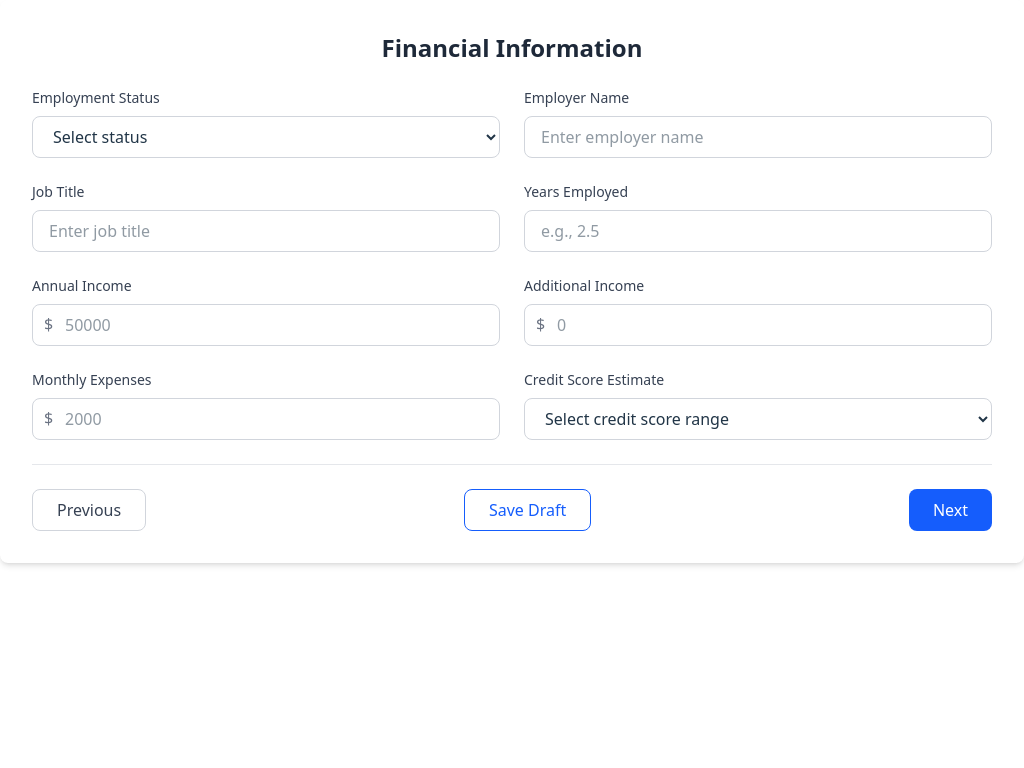
it: FinancialInformation Component › Validation - Field Formats › should show error when job title is too short
This screenshot has width=1024, height=768.
In the field labelled "Job Title": (266, 231) [32,210,500,252], type "A"
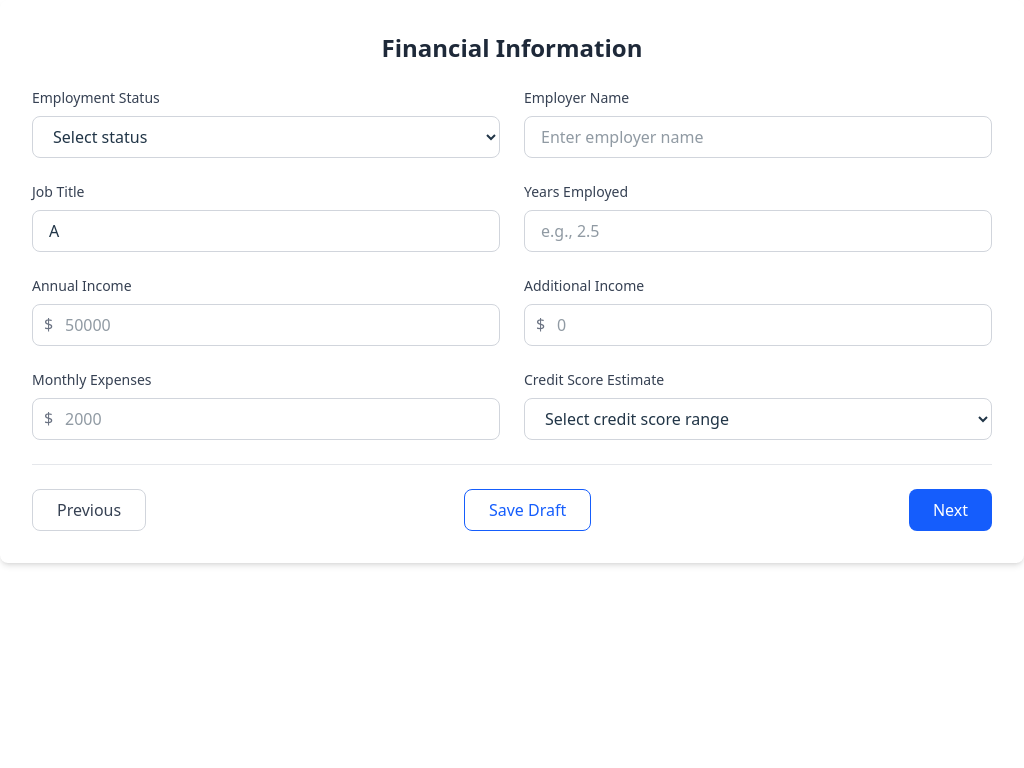
Leave the field labelled "Job Title", box [32,210,500,252]
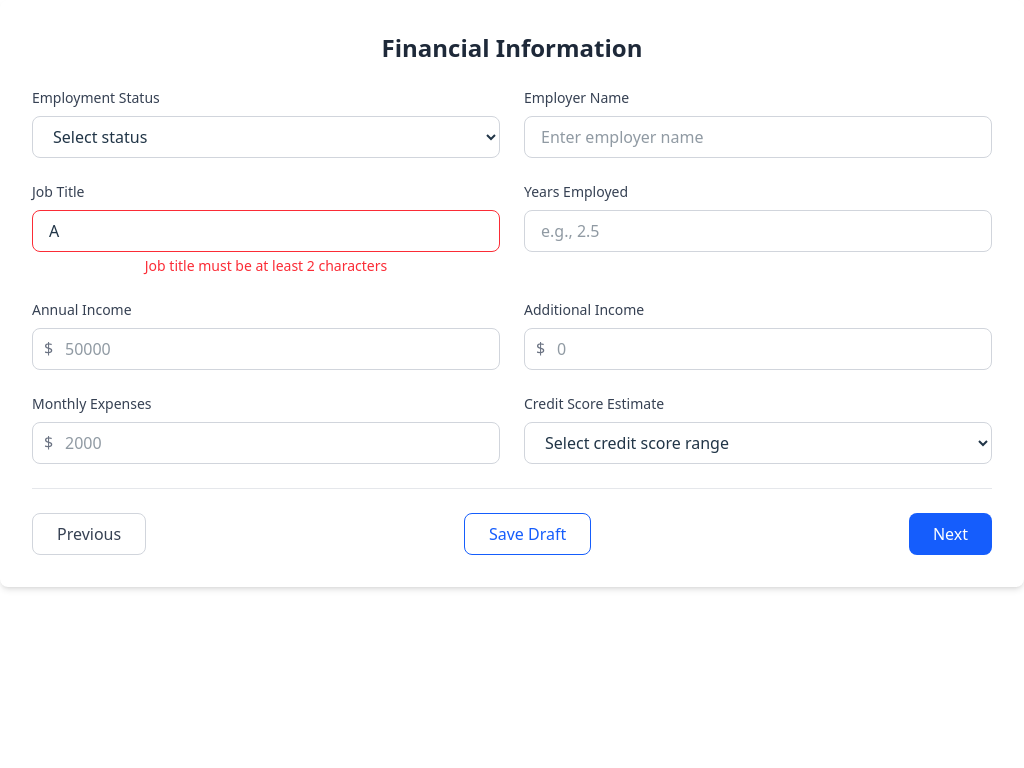
Expected: the text "Job title must be at least 2 characters" is shown, [145,256,387,275]
